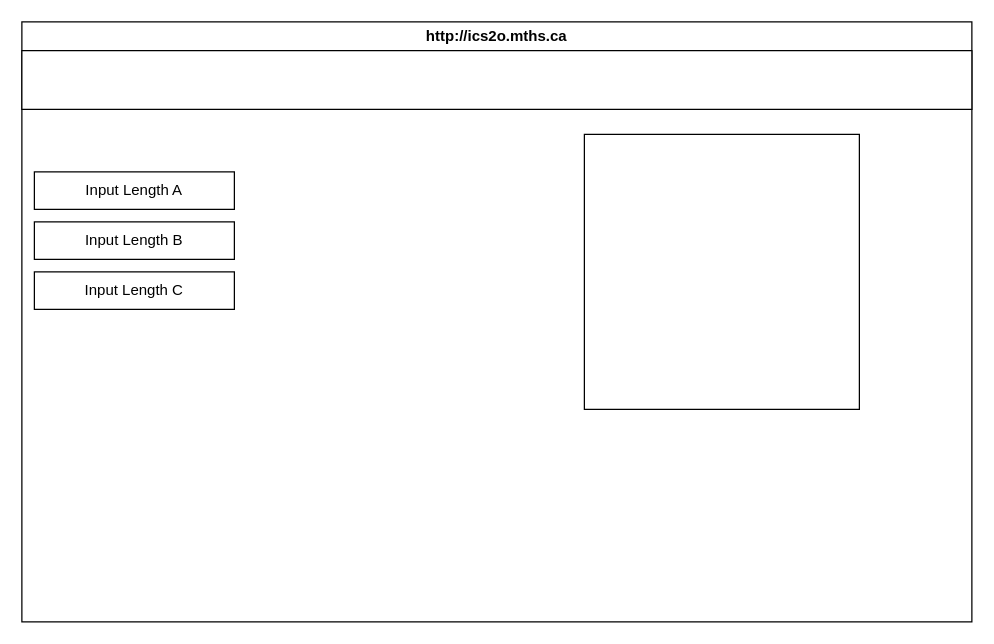
This 994x644 diagram has some shape labels left out. The shapes that lost their labels are listed below. From the top down, each one's centre as x and y in pixels, then its label:
At point (496, 79): "triangular classifier".
At point (721, 271): "example Image".
